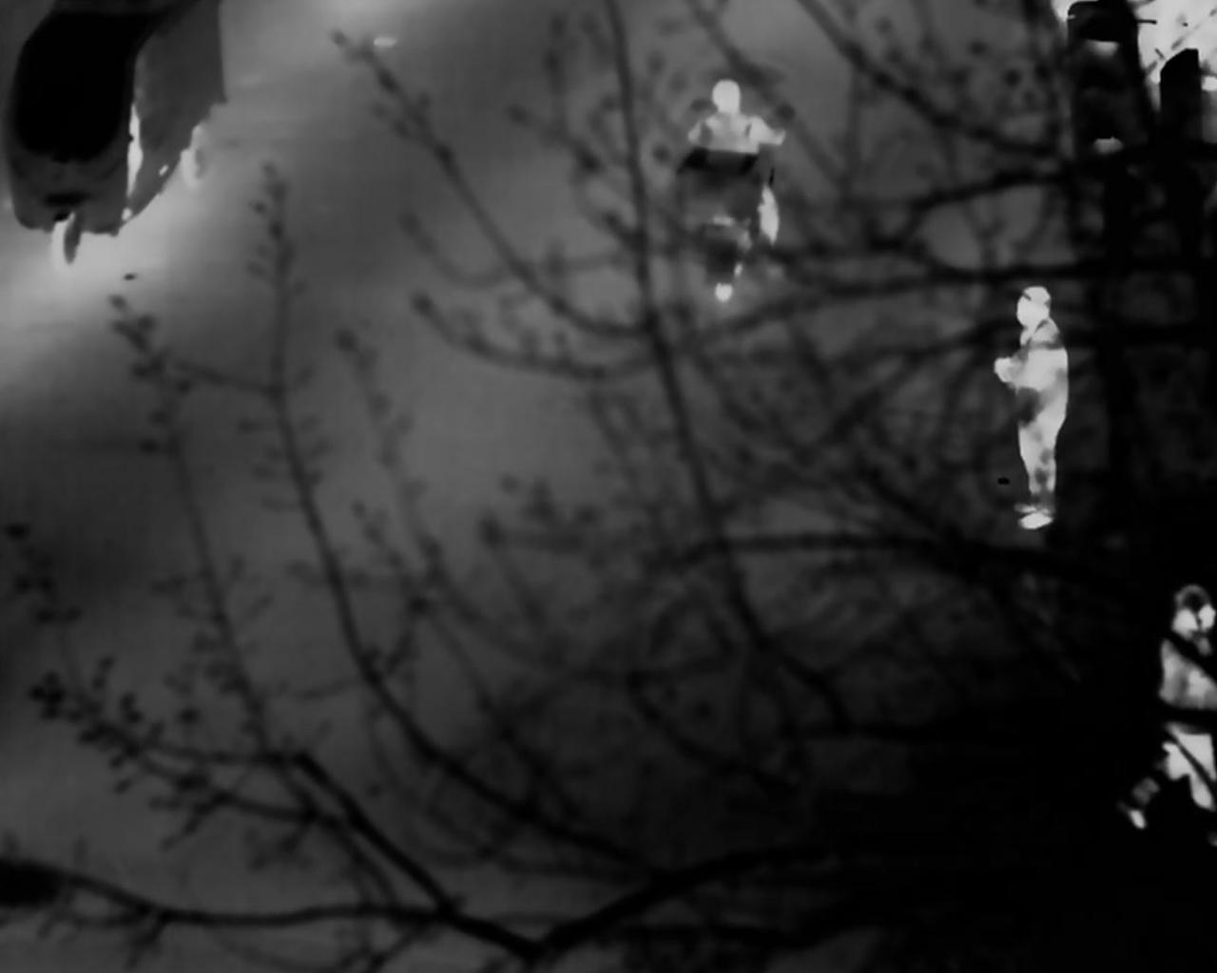person: (976, 277, 1074, 538), (699, 84, 807, 277), (1157, 593, 1217, 802)
